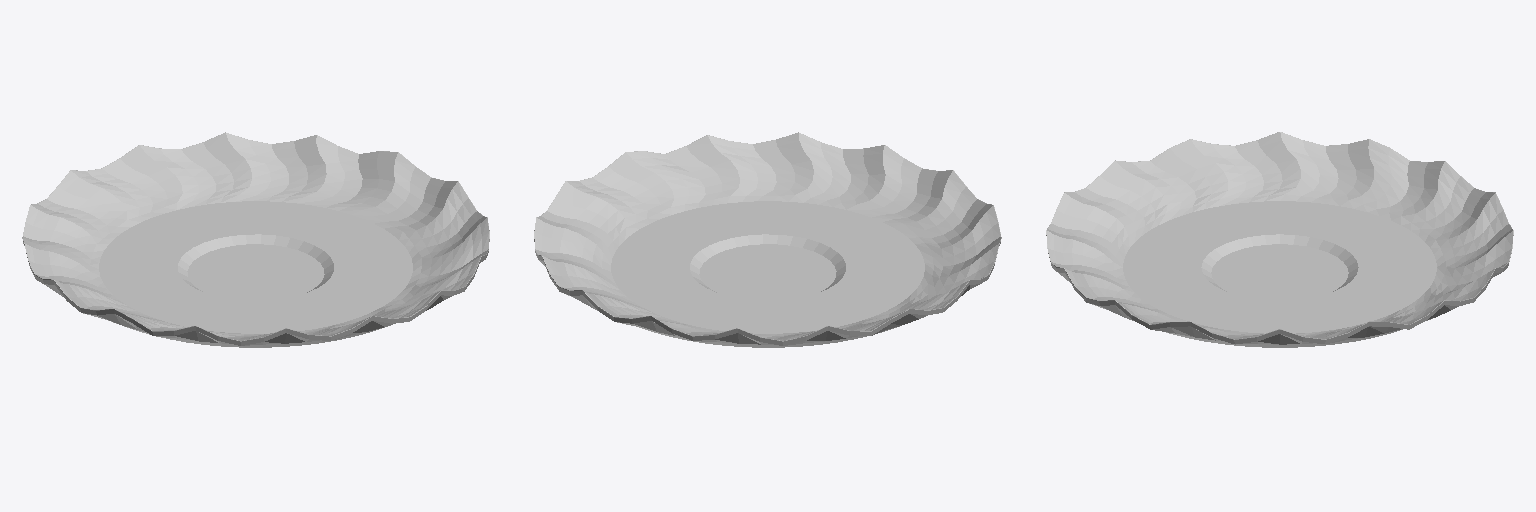
Rendered from Saucer.obj.
The picture shows the model from 3 angles: view 1: azimuth 30°, elevation 25°; view 2: azimuth 150°, elevation 25°; view 3: azimuth 270°, elevation 25°; orthographic projection.
Visible parts, largest first — view 1: Saucer_Circle.001; view 2: Saucer_Circle.001; view 3: Saucer_Circle.001.
Part boxes in pixels (bbox=[...]): Saucer_Circle.001: bbox=[22, 132, 489, 347]; Saucer_Circle.001: bbox=[534, 132, 1001, 347]; Saucer_Circle.001: bbox=[1046, 132, 1513, 347].
Size of the model in its own units: 0.1489 by 0.0181 by 0.1489.